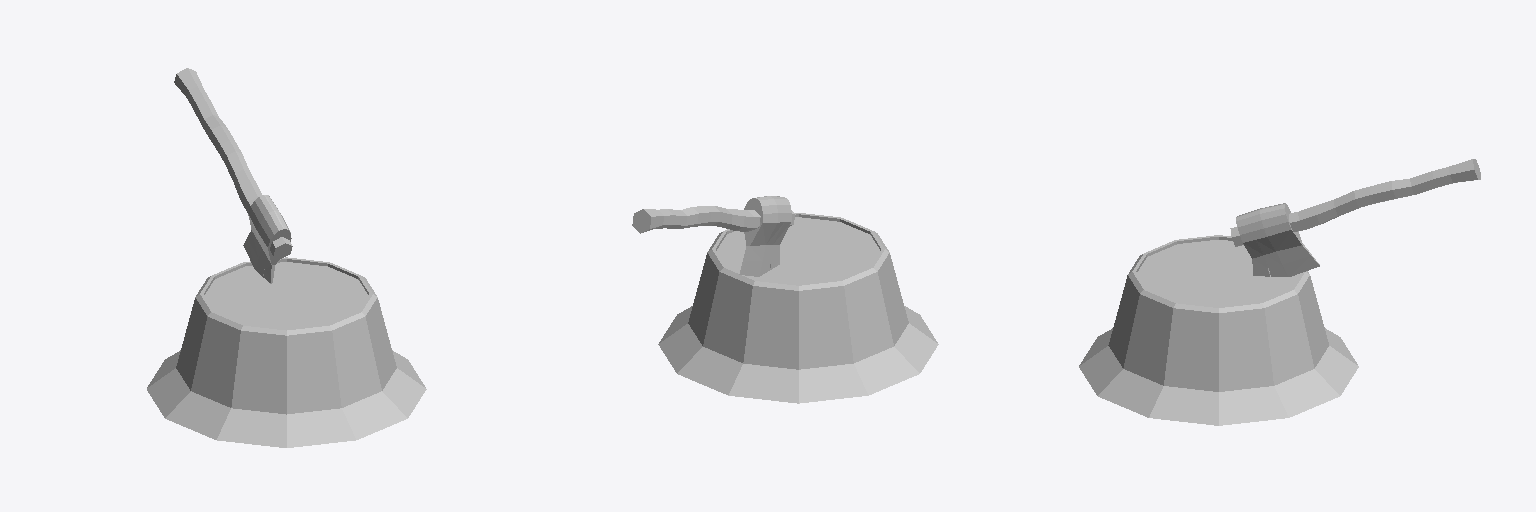
File: toconTutorial.obj
3 renders of one model, left to right at view 1: azimuth 30°, elevation 25°; view 2: azimuth 150°, elevation 25°; view 3: azimuth 270°, elevation 25°, orthographic.
Visible parts, largest first — view 1: Cylinder.003; view 2: Cylinder.003; view 3: Cylinder.003.
Boxes of the visible parts, x1,y1,x2,y2 form: Cylinder.003: [147, 68, 426, 447]; Cylinder.003: [632, 196, 938, 403]; Cylinder.003: [1079, 159, 1480, 425].
Bounding box in the file's own units: 1.25 × 1.09 × 1.8.